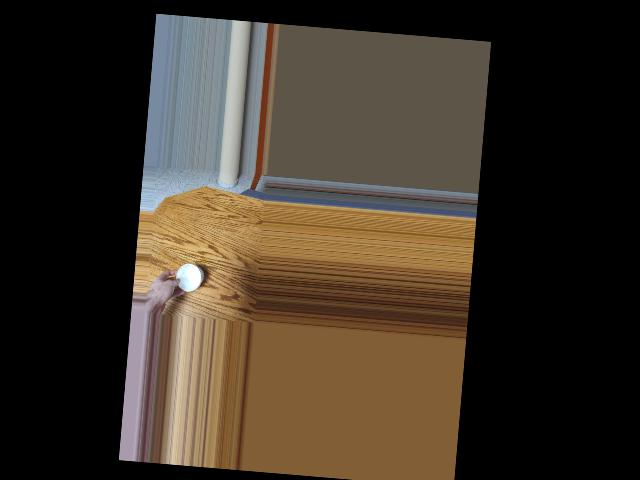cotage: (173, 257, 203, 292)
